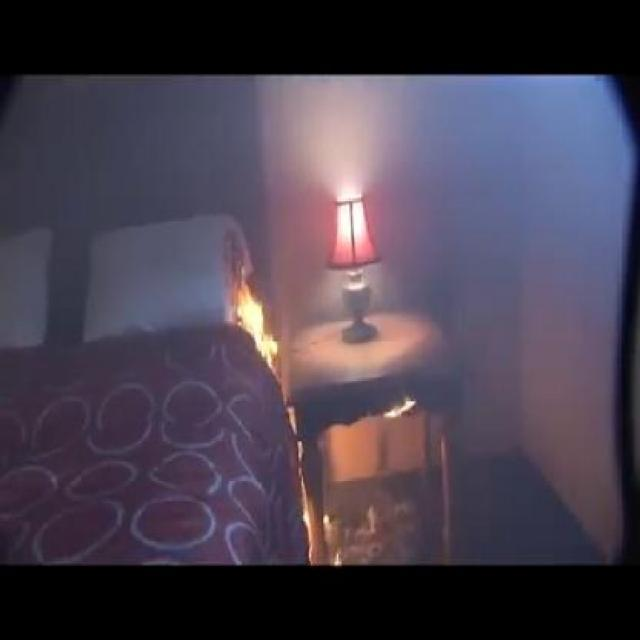fire: (228, 280, 292, 406)
